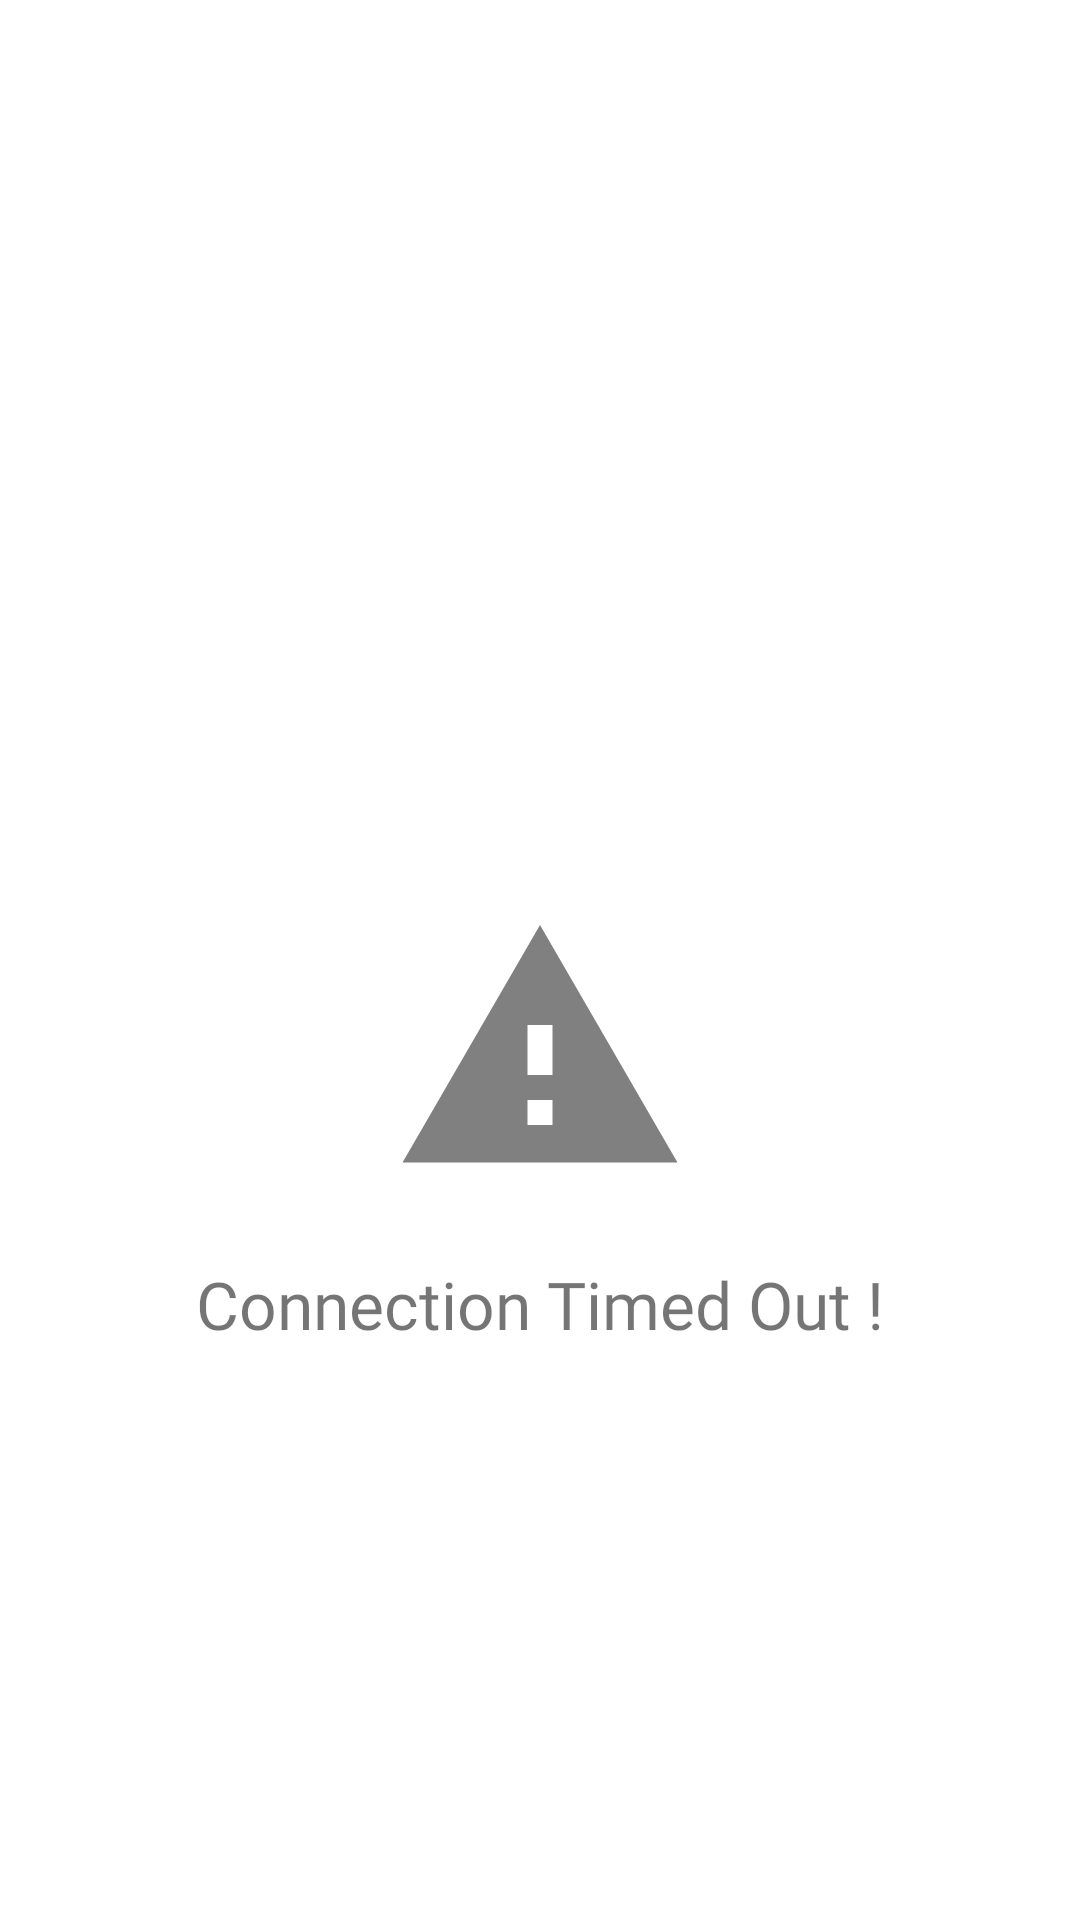

Icon click points for this 1080x1920 phone screenshot, format point (x, y):
warning: point (540, 1044)
